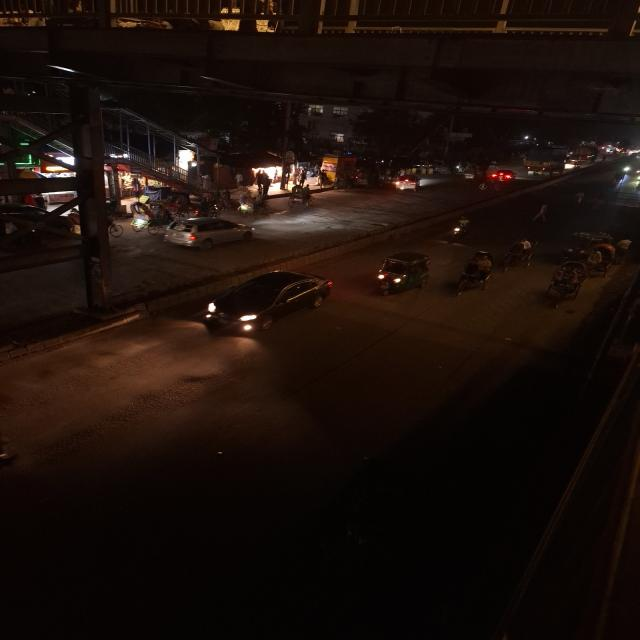bicycle: (478, 178, 502, 194)
car: (197, 268, 338, 337), (162, 215, 260, 251), (494, 166, 514, 182)
cng: (370, 249, 434, 297)
motorcycle: (446, 213, 475, 241)
pedestrian: (538, 204, 550, 224), (575, 190, 586, 204)
rickshaw: (541, 233, 626, 312), (544, 258, 590, 308), (453, 249, 496, 298), (582, 238, 628, 278), (502, 235, 537, 272), (223, 188, 262, 214), (126, 203, 158, 231), (386, 172, 426, 192), (288, 185, 318, 209), (458, 167, 477, 181)
truck: (524, 147, 565, 177)
